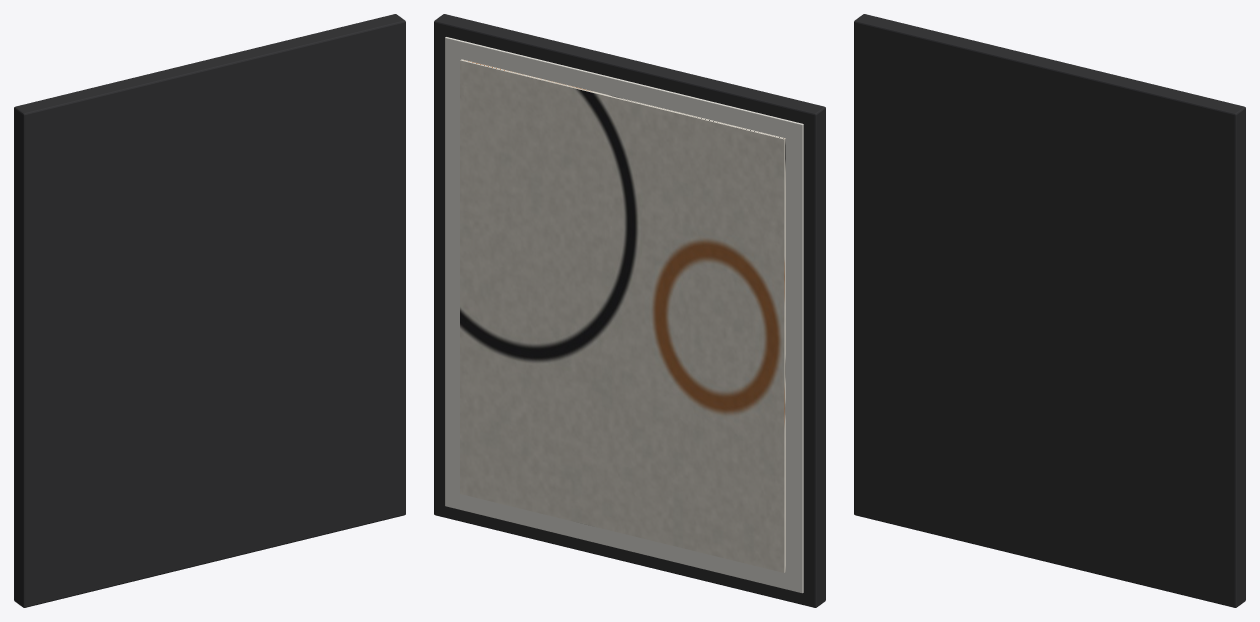
Rendered from bed2_art.glb.
3 renders of one model, left to right at view 1: azimuth 30°, elevation 25°; view 2: azimuth 150°, elevation 25°; view 3: azimuth 330°, elevation 25°, orthographic.
Parts seen in each view (by area): view 1: bed2_art; view 2: bed2_art; view 3: bed2_art.
Boxes of the visible parts, bbox=[...] form: bed2_art: bbox=[14, 14, 405, 607]; bed2_art: bbox=[434, 14, 825, 607]; bed2_art: bbox=[854, 14, 1245, 607].
Size of the model in its own units: 0.85 by 1.05 by 0.05.
3 materials, 1 textured.
